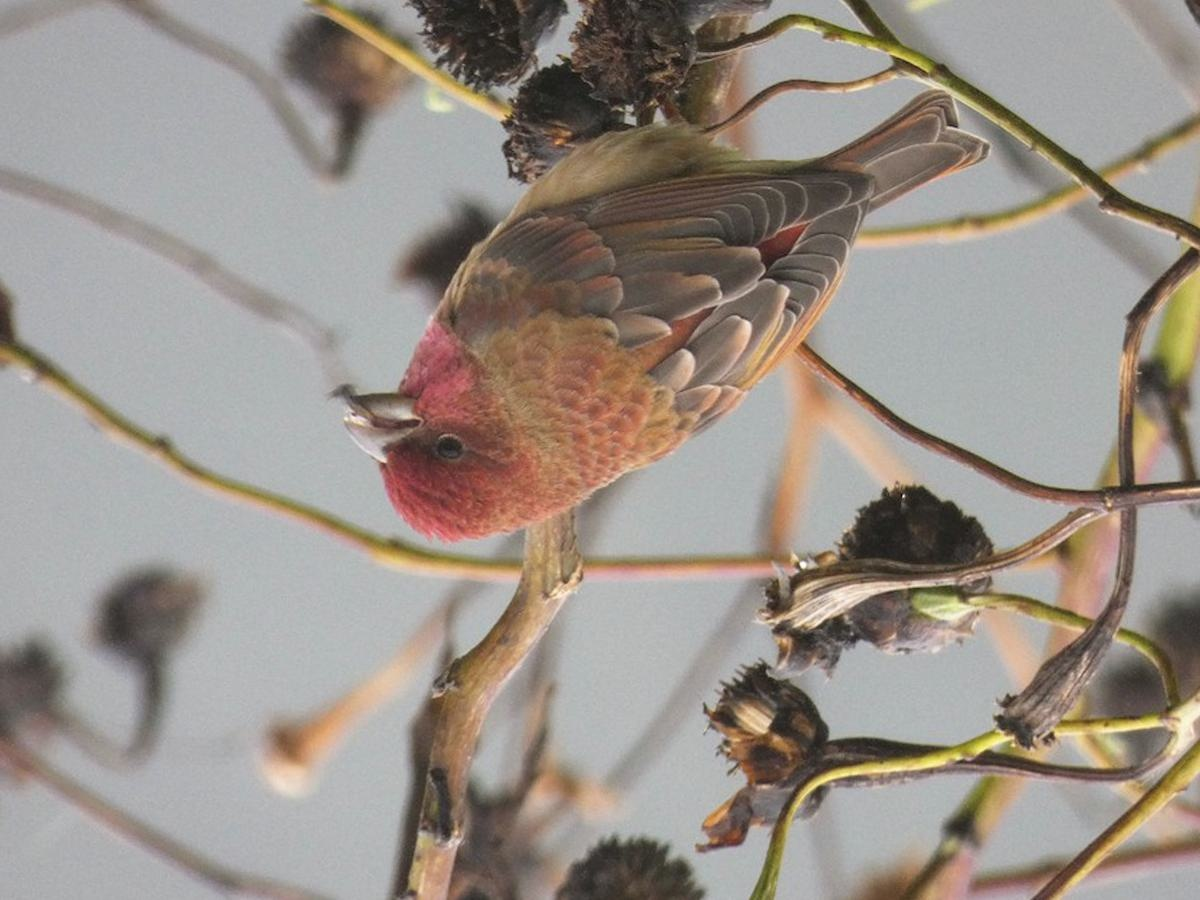rosefinch: (349, 73, 909, 548)
